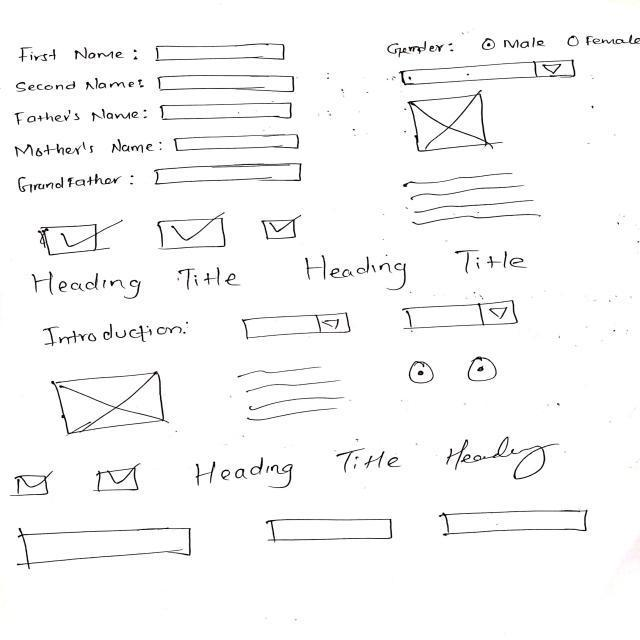radio: (403, 349, 448, 395), (468, 349, 503, 395), (474, 34, 503, 53), (568, 29, 584, 51)
textbox: (10, 522, 207, 569), (428, 503, 600, 540), (156, 163, 321, 192), (257, 518, 404, 547), (156, 72, 302, 99), (154, 44, 292, 65), (177, 132, 320, 152), (159, 103, 302, 122)
